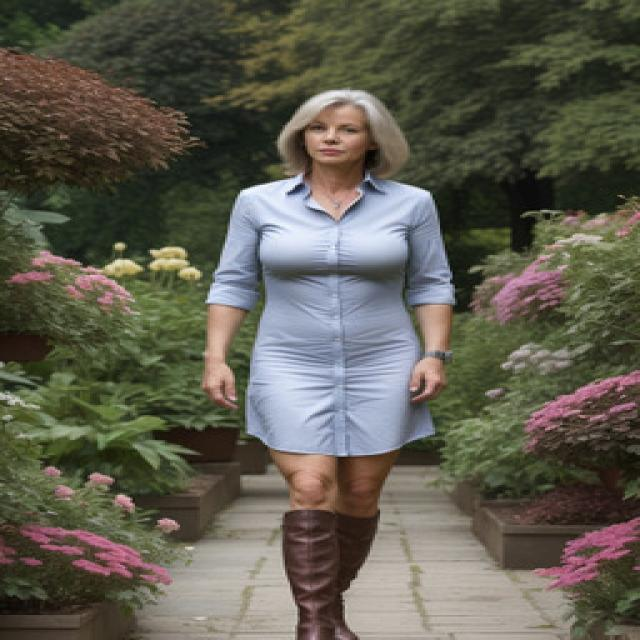Ai human 2: (180, 80, 489, 640)
